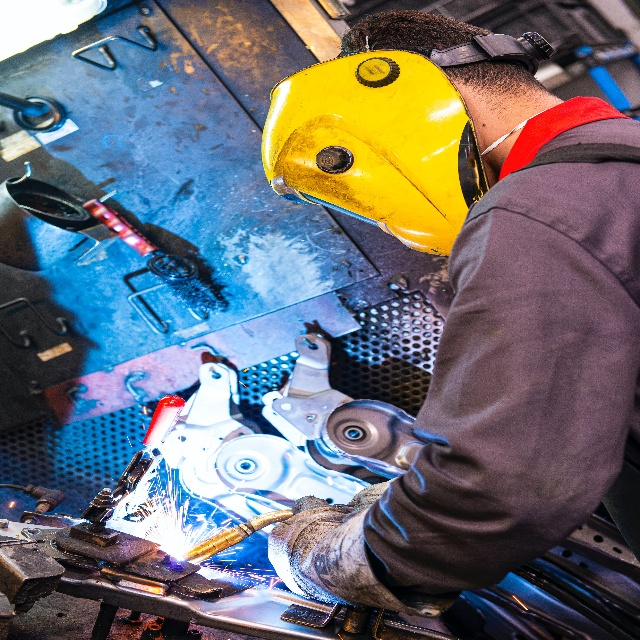Guantes: (265, 496, 442, 620), (348, 473, 401, 513)
